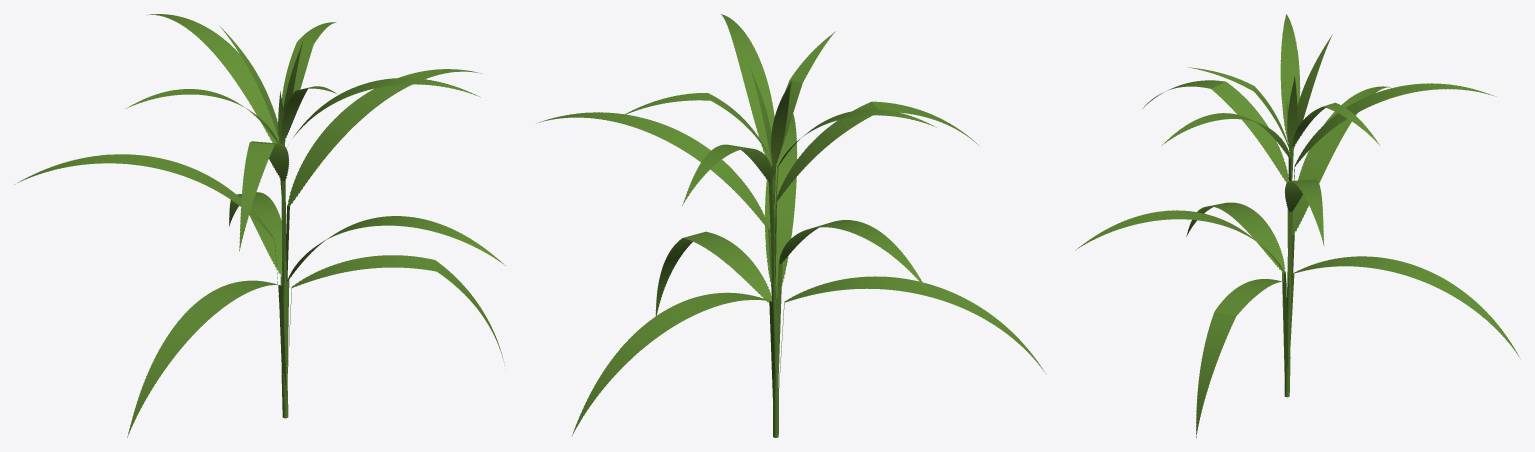
Rendered from maize_003_day_090.dae.
The picture shows the model from 3 angles, left to right: view 1: azimuth 30°, elevation 25°; view 2: azimuth 150°, elevation 25°; view 3: azimuth 270°, elevation 25°; orthographic projection. The views are drawn at different scales.
Visible parts, largest first — view 1: node; view 2: node; view 3: node.
Boxes of the visible parts, left/top/right/bottom form: node: left=14, top=14, right=505, bottom=437; node: left=536, top=14, right=1046, bottom=437; node: left=1075, top=14, right=1520, bottom=437.
Bounding box in the file's own units: 1.59 × 1.34 × 1.57.
Materials: 1 (1 with a texture image).
